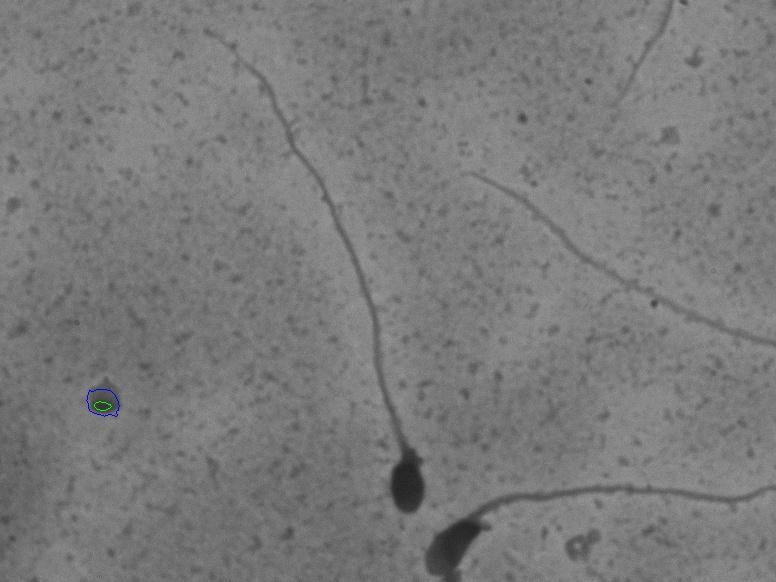Abnormal: (418, 450, 745, 581)
Normal: (188, 16, 474, 551)
